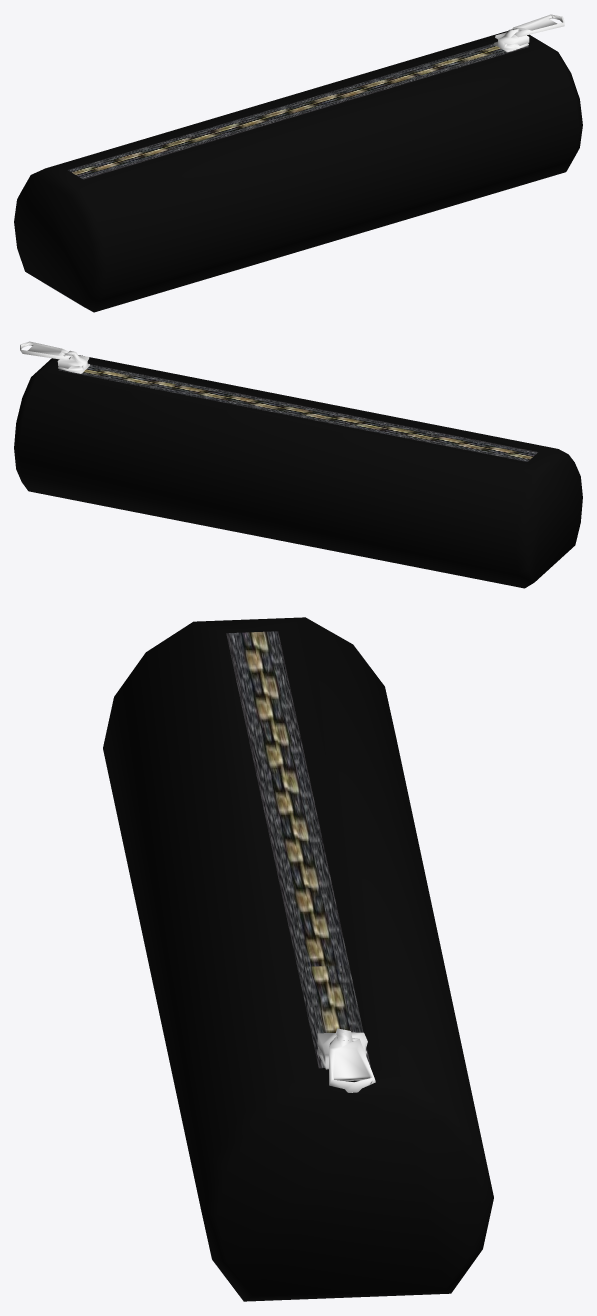
Rendered from PencilCase_Clean.fbx.
3 views of the same model, one above another, from view 1: azimuth 30°, elevation 25°; view 2: azimuth 150°, elevation 25°; view 3: azimuth 270°, elevation 25° (orthographic). The views are drawn at different scales.
Parts seen in each view (by area): view 1: PencilCase_Clean; view 2: PencilCase_Clean; view 3: PencilCase_Clean.
Part boxes in pixels (x1,y1,x2,y2): PencilCase_Clean: [14, 14, 582, 312]; PencilCase_Clean: [14, 341, 582, 588]; PencilCase_Clean: [103, 617, 493, 1301].
Bounding box in the file's own units: 41.31 × 9.48 × 13.63.
